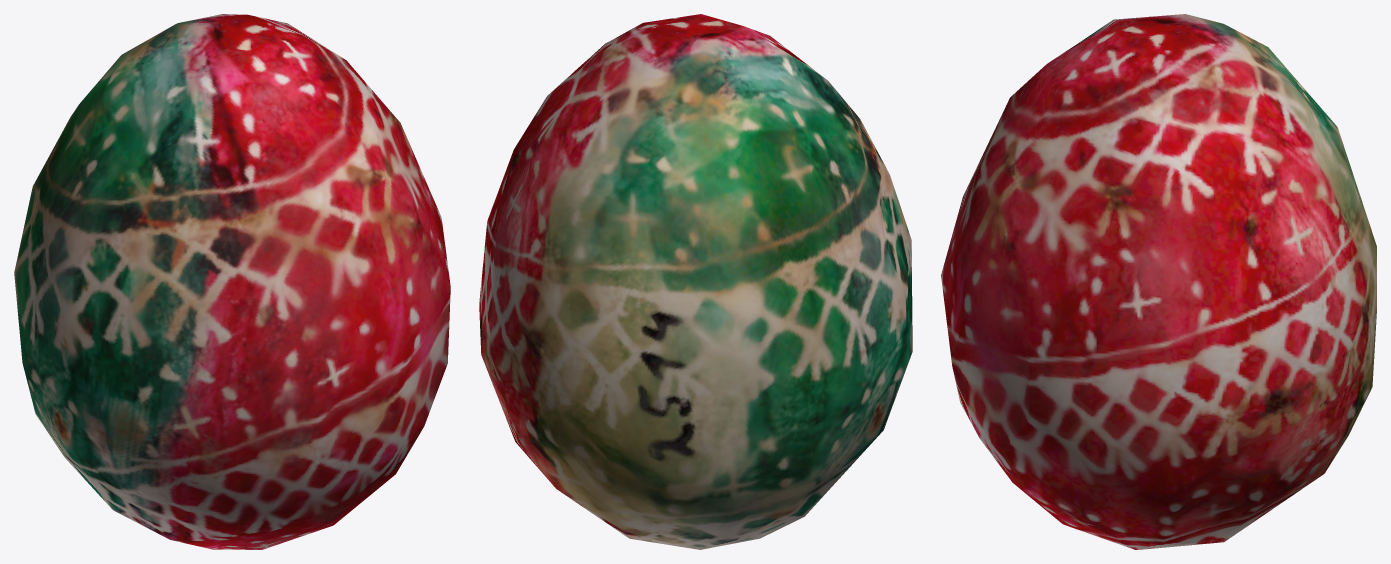
3 views of the same model, side by side, from view 1: azimuth 30°, elevation 25°; view 2: azimuth 150°, elevation 25°; view 3: azimuth 270°, elevation 25° (orthographic).
Parts seen in each view (by area): view 1: pMesh1; view 2: pMesh1; view 3: pMesh1.
Part boxes in pixels (x1=…): pMesh1: x1=14, y1=14, x2=450, y2=549; pMesh1: x1=479, y1=14, x2=912, y2=549; pMesh1: x1=941, y1=14, x2=1376, y2=549.
Size of the model in its own units: 41.29 by 52.58 by 41.18.
Materials: 1 (1 with a texture image).
